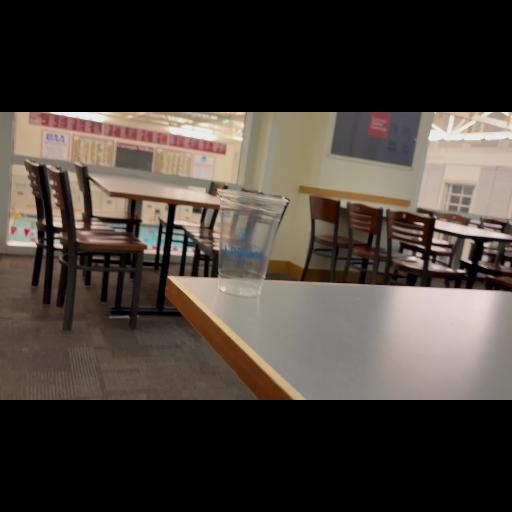lp_plastic_cup: (198, 179, 292, 323)
